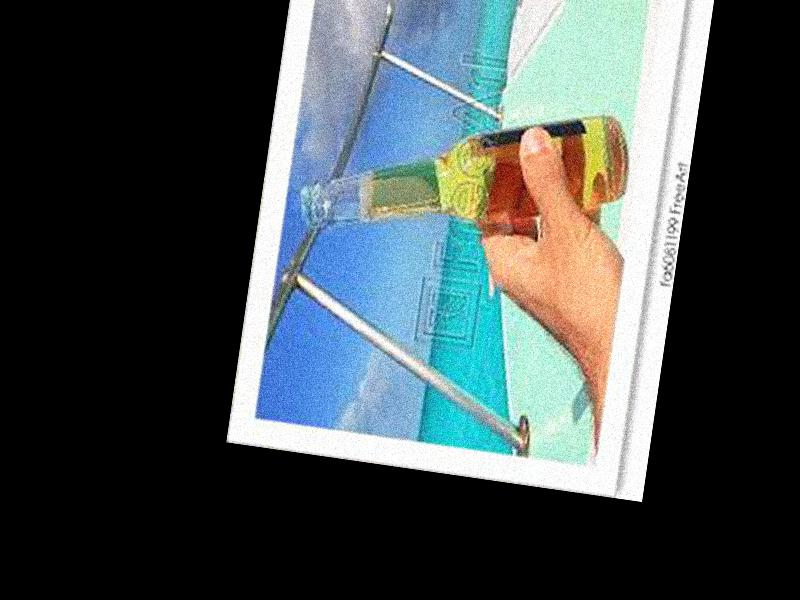Beer: (297, 72, 631, 279)
